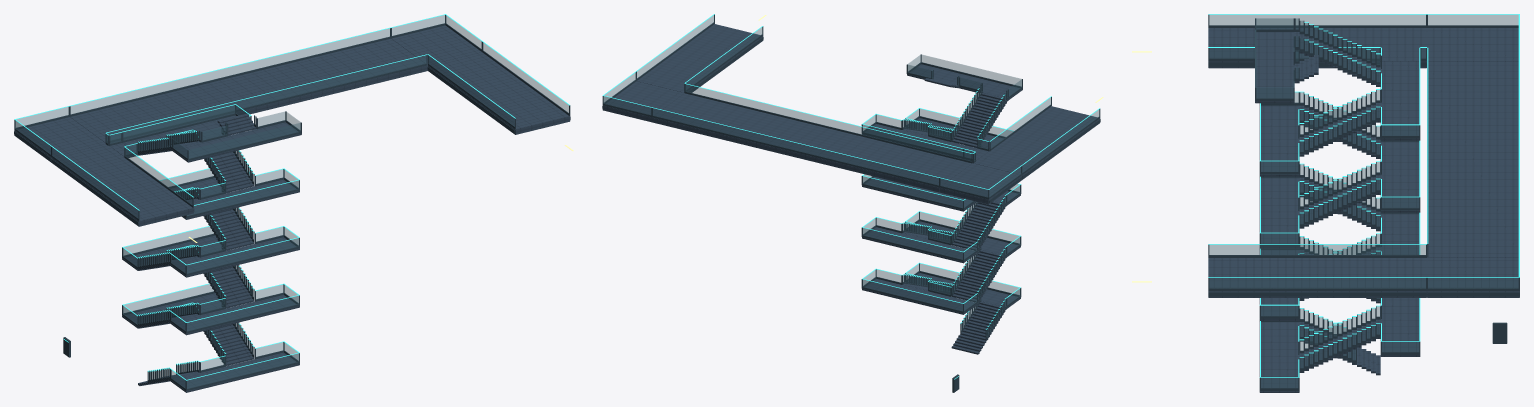
File: v02-detailed-00-03.glb
3 renders of one model, left to right at view 1: azimuth 30°, elevation 25°; view 2: azimuth 150°, elevation 25°; view 3: azimuth 270°, elevation 25°, orthographic. The views are drawn at different scales.
Parts seen in each view (by area): view 1: v02-detailed-00-03; view 2: v02-detailed-00-03; view 3: v02-detailed-00-03.
Boxes of the visible parts, left/top/right/bottom form: v02-detailed-00-03: left=14, top=14, right=573, bottom=392; v02-detailed-00-03: left=602, top=14, right=1103, bottom=392; v02-detailed-00-03: left=1132, top=14, right=1519, bottom=392.
Bounding box in the file's own units: 47.1 × 28.39 × 29.25.
Materials: 5 (1 with a texture image).
